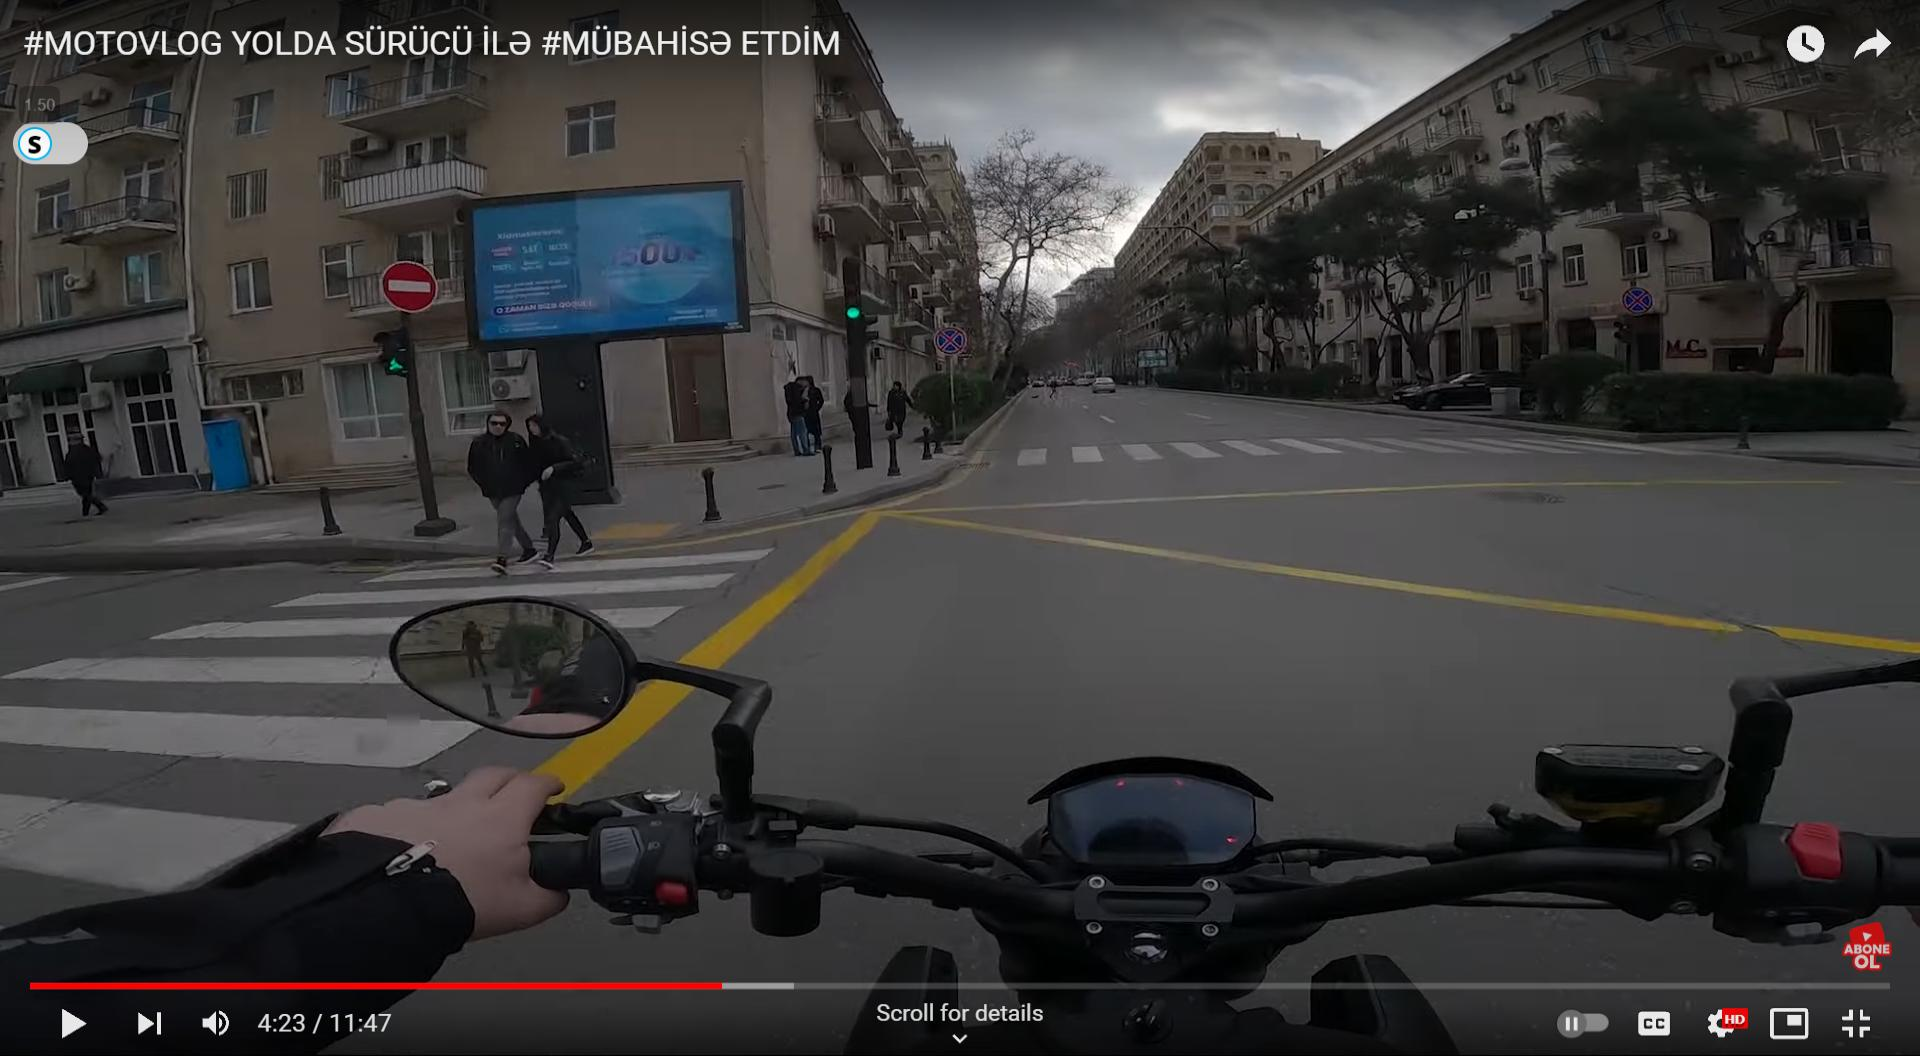banner: (462, 178, 751, 342)
